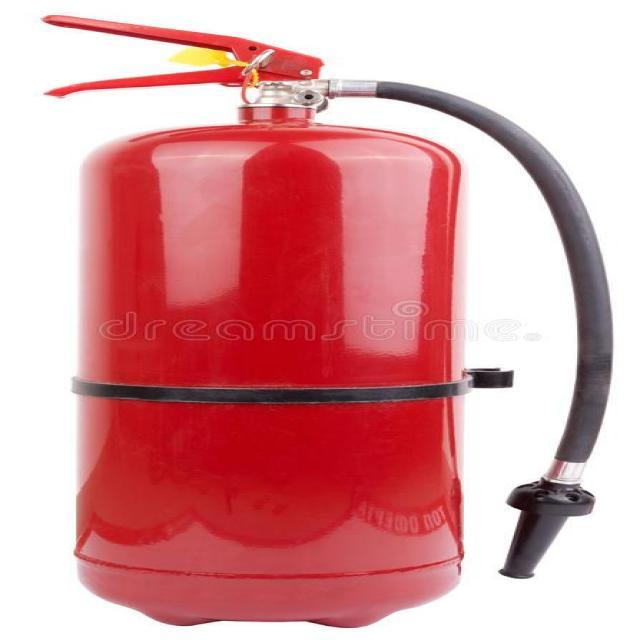FireExtinguisher: (30, 11, 622, 638)
